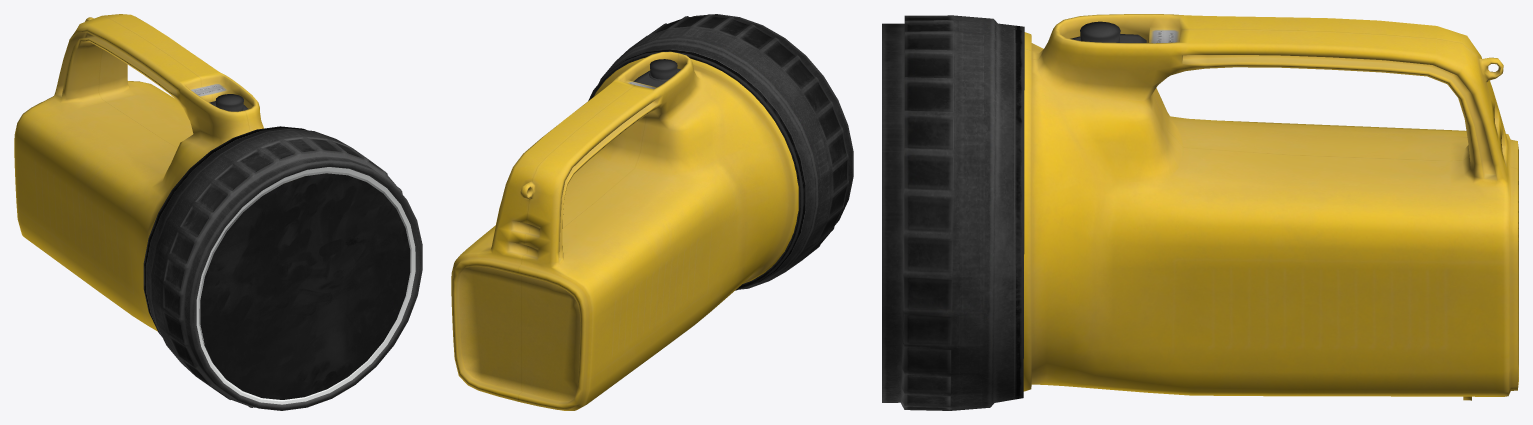
Rendered from pastic_torch_6v.glb.
The picture shows the model from 3 angles, left to right: view 1: azimuth 30°, elevation 25°; view 2: azimuth 150°, elevation 25°; view 3: azimuth 270°, elevation 25°; orthographic projection. The views are drawn at different scales.
Visible parts, largest first — view 1: pastic_torch_6v; view 2: pastic_torch_6v; view 3: pastic_torch_6v.
Part boxes in pixels (x1=…): pastic_torch_6v: x1=14, y1=14, x2=422, y2=410; pastic_torch_6v: x1=451, y1=14, x2=853, y2=410; pastic_torch_6v: x1=882, y1=14, x2=1518, y2=410.
Bounding box in the file's own units: 0.1369 × 0.1417 × 0.2242.
2 materials, 2 textured.
